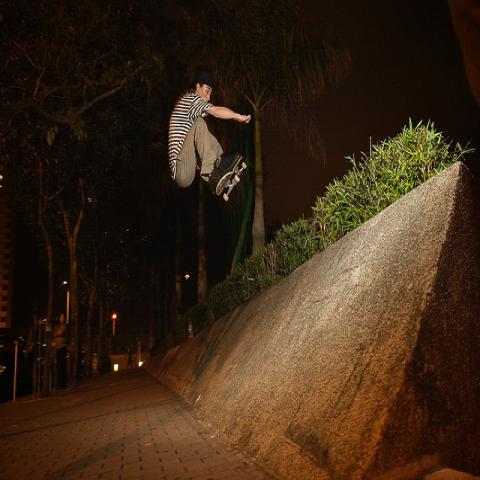car: (0, 344, 34, 401)
